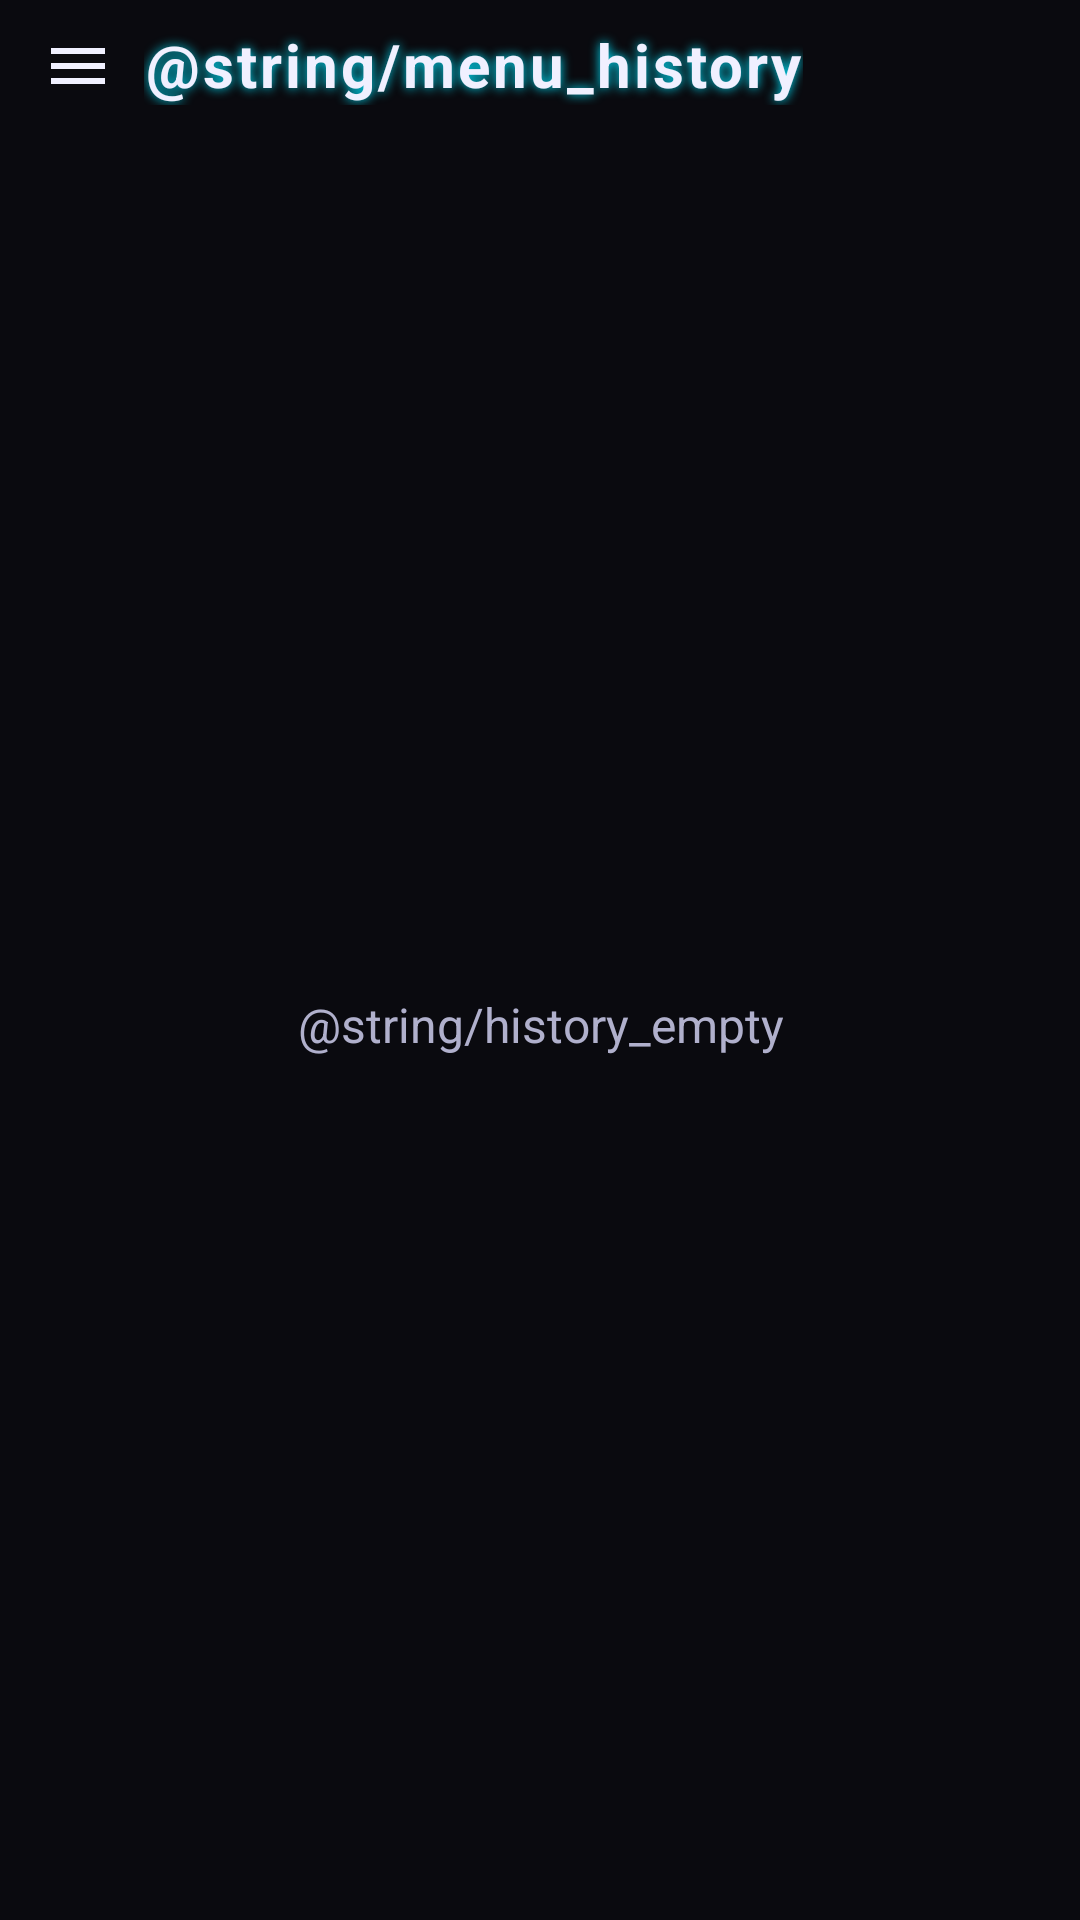

Icon bounding boxes for this 1080 x 1920 phone screenshot, format box=[x1, y1, x2, y2]:
打开菜单: box=[51, 48, 105, 84]
